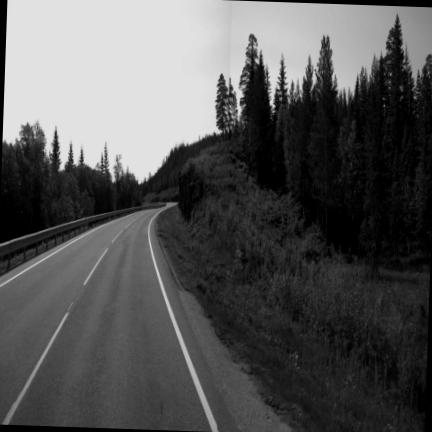Road: (0, 210, 236, 431)
